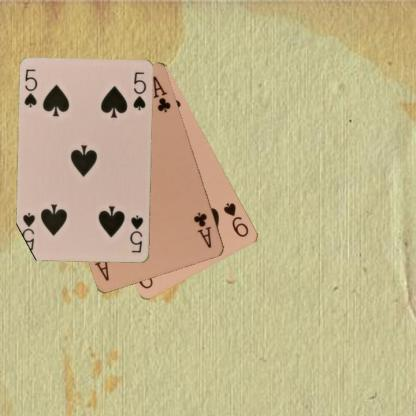5s: (22, 66, 39, 110), (128, 213, 145, 254)
9s: (221, 200, 250, 239)
Ac: (191, 209, 213, 250)
